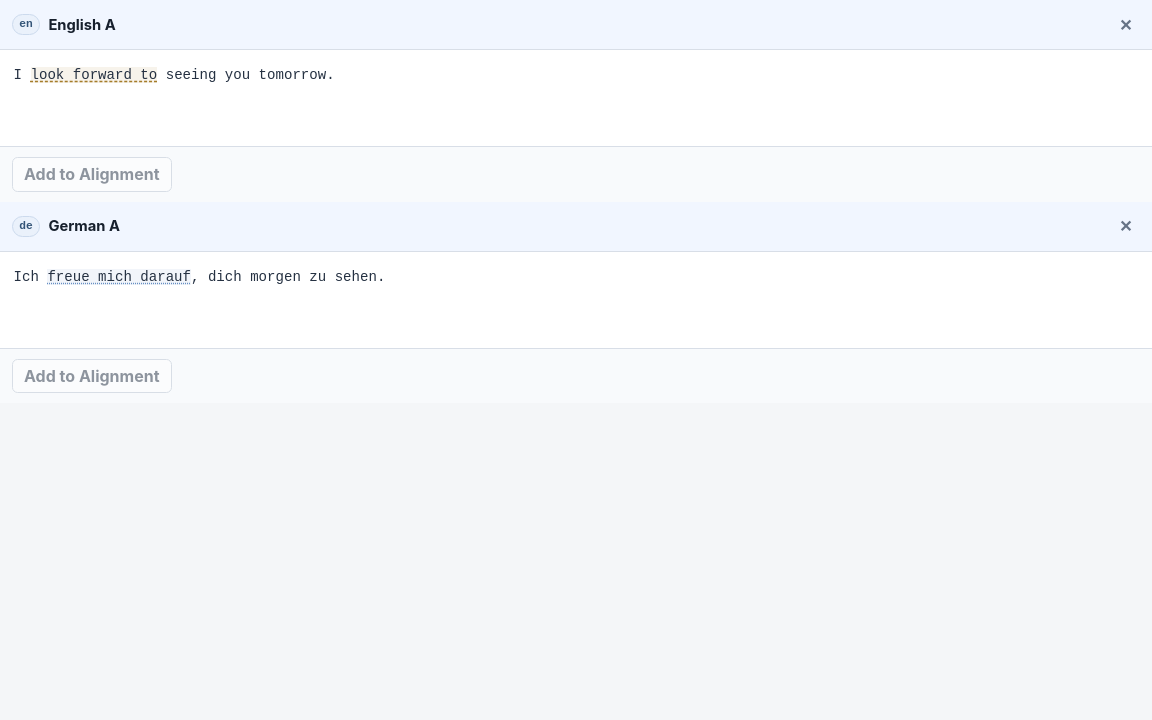
TextPanel (M0.6 alignment visualization) › clicking an ambiguous run opens a chooser OUTSIDE the content root with exact candidates
Click the text "look forward to" at (94, 75), box top-left (30, 67), bottom-right (157, 83)
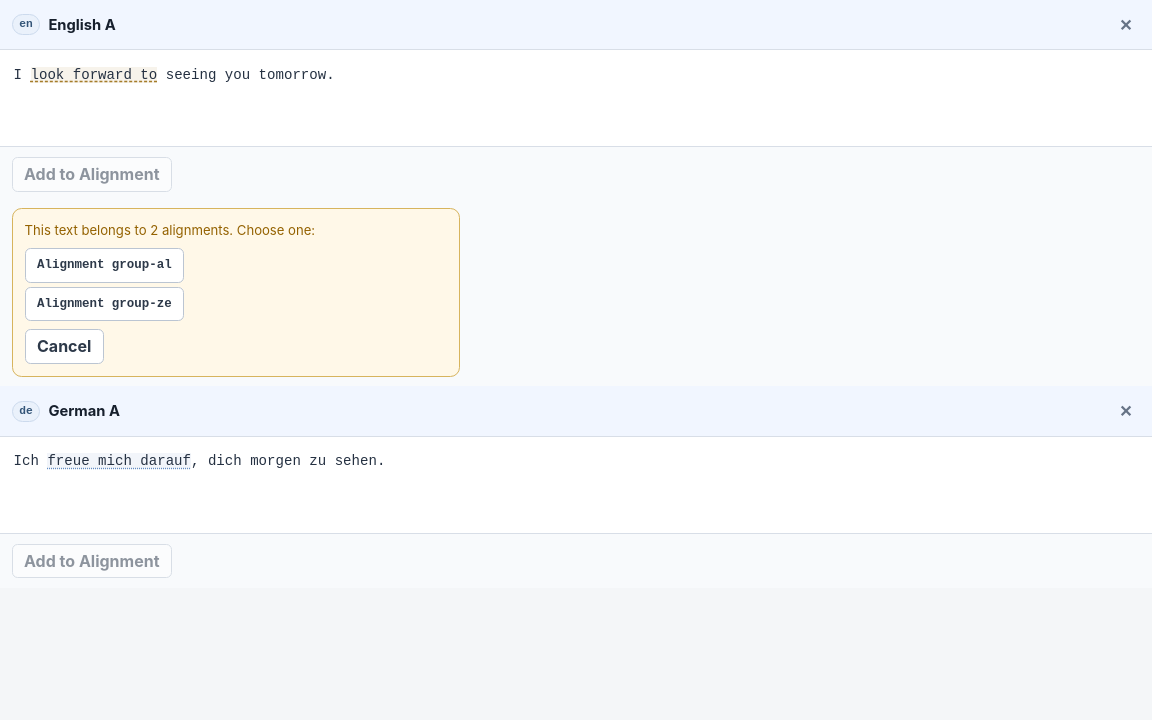
Expected: the element showing "I look forward to seeing you tomorrow." is shown, top-left (0, 50), bottom-right (1151, 146)
Expected: the element with class "alignment-chooser" is shown, top-left (12, 208), bottom-right (460, 377)
